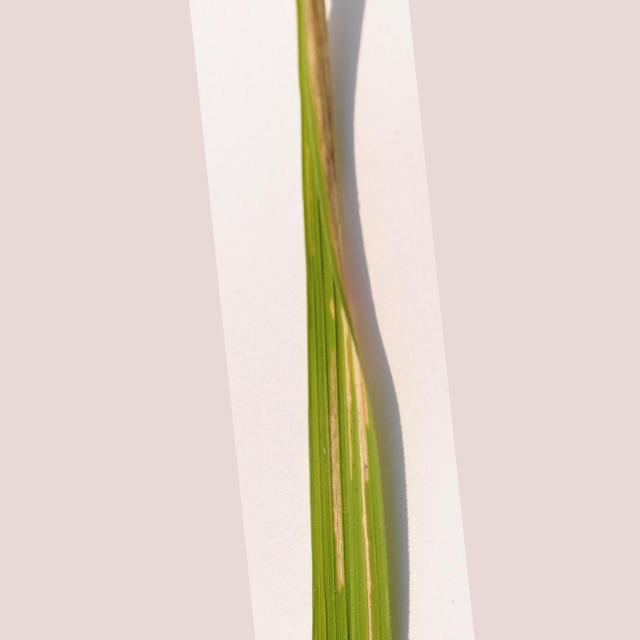Bacterial_Leaf_Blight: (341, 308, 372, 640), (303, 1, 341, 250), (328, 349, 345, 585), (330, 297, 335, 319)
